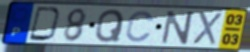8: (63, 7, 89, 43)
C: (124, 9, 156, 44)
D: (27, 6, 63, 43)
N: (160, 9, 196, 45)
Q: (93, 8, 126, 44)
X: (191, 11, 224, 47)
